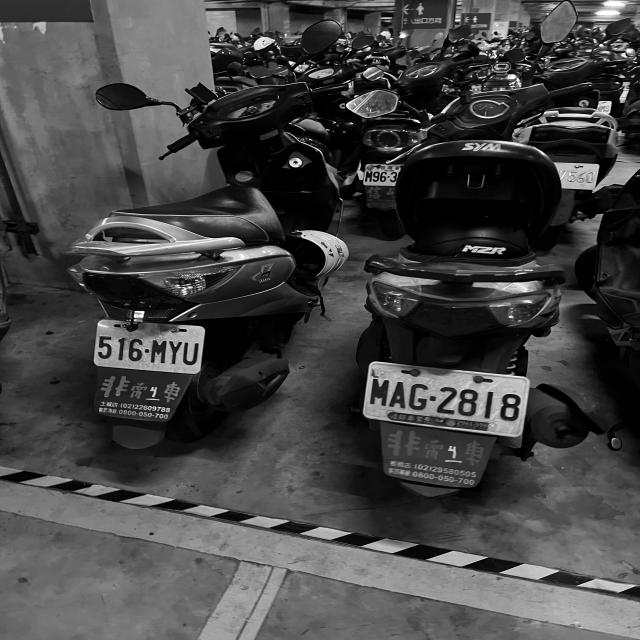-: (429, 393, 436, 402), (143, 347, 151, 354), (388, 176, 390, 178)
0: (586, 171, 596, 185)
1: (116, 334, 125, 361)
2: (437, 384, 457, 414)
3: (390, 172, 397, 183)
5: (97, 335, 113, 359), (568, 170, 577, 182)
6: (127, 336, 145, 363), (577, 171, 586, 183), (380, 171, 388, 183)
8: (499, 390, 522, 424), (457, 387, 477, 417)
9: (373, 171, 380, 182)
A: (389, 377, 407, 409)
G: (407, 382, 429, 410)
I: (484, 388, 494, 420)
M: (371, 376, 388, 407), (150, 338, 168, 363), (364, 170, 372, 182)
U: (182, 340, 199, 366)
Y: (168, 339, 183, 364)
plate: (361, 363, 530, 435), (96, 321, 201, 372)
